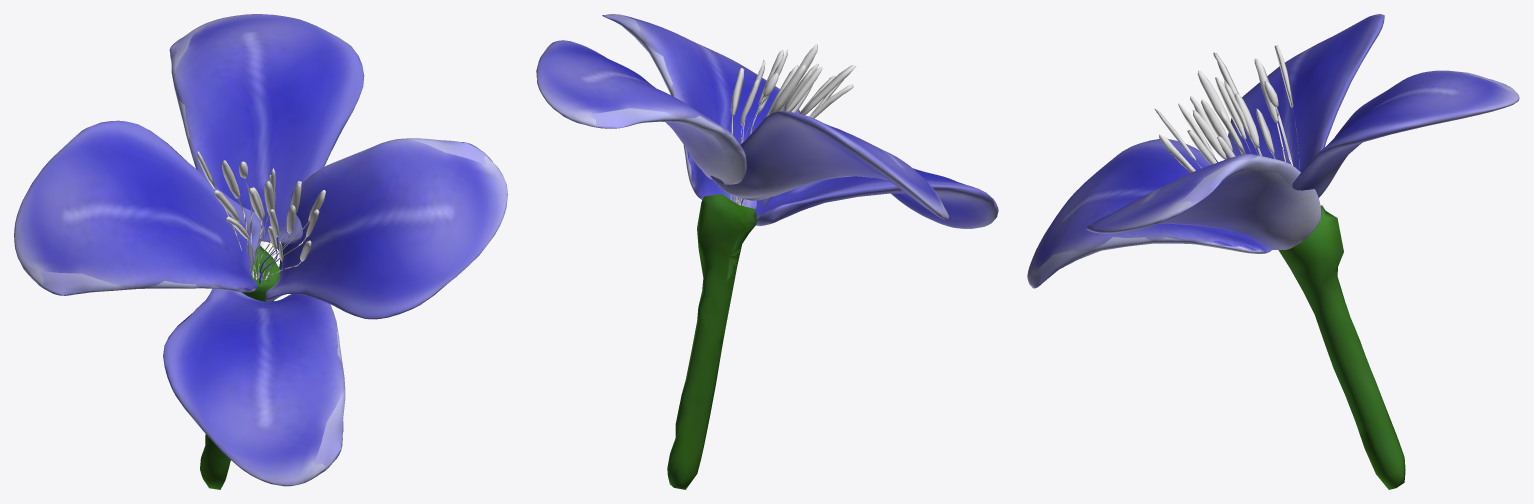
3 views of the same model, side by side, from view 1: azimuth 30°, elevation 25°; view 2: azimuth 150°, elevation 25°; view 3: azimuth 270°, elevation 25° (orthographic). The views are drawn at different scales.
Parts seen in each view (by area): view 1: sansevieriaplant.004; view 2: sansevieriaplant.004; view 3: sansevieriaplant.004.
Part boxes in pixels (<box>): sansevieriaplant.004: <box>14,14,507,489</box>; sansevieriaplant.004: <box>536,14,998,489</box>; sansevieriaplant.004: <box>1027,14,1519,489</box>.
Bounding box in the file's own units: 0.4068 × 0.4027 × 0.4166.
2 materials, 1 textured.
